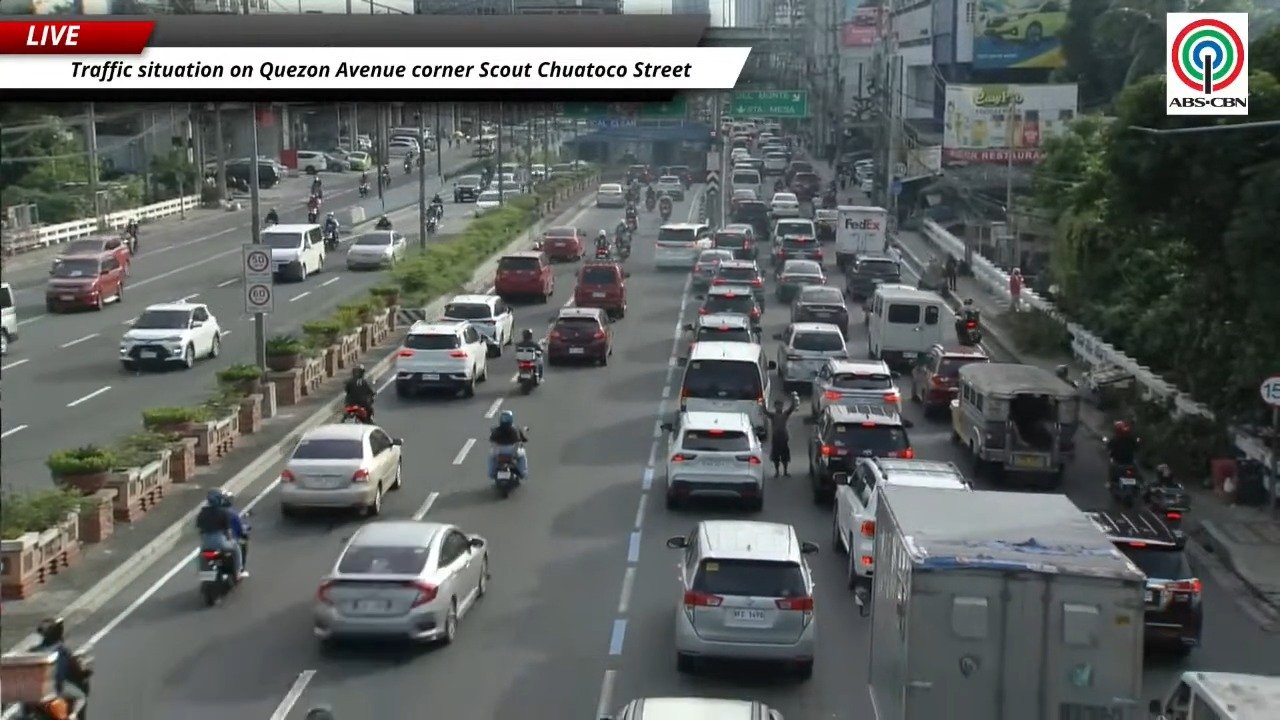car: (666, 520, 818, 679), (313, 521, 488, 643), (832, 457, 972, 587), (1088, 509, 1203, 655), (278, 423, 402, 516), (808, 404, 914, 503), (662, 412, 765, 511), (396, 321, 490, 397), (119, 302, 221, 370), (810, 358, 901, 419), (910, 345, 989, 415), (775, 323, 847, 392), (45, 253, 125, 312), (442, 295, 514, 356), (600, 697, 782, 719), (546, 306, 611, 365), (261, 223, 326, 281), (983, 0, 1067, 44), (574, 261, 629, 318), (51, 235, 131, 274), (494, 251, 554, 302), (791, 286, 849, 338), (684, 314, 759, 352), (696, 285, 762, 327), (654, 222, 712, 269), (846, 253, 900, 301), (711, 259, 765, 307), (346, 230, 407, 269), (772, 222, 824, 267), (776, 259, 825, 302), (690, 249, 732, 290), (731, 200, 771, 242), (540, 226, 587, 261), (713, 223, 757, 260), (0, 282, 19, 355), (788, 172, 821, 201), (772, 218, 816, 239), (453, 175, 484, 202), (813, 209, 838, 241), (654, 175, 684, 201), (296, 150, 328, 174), (473, 190, 502, 216), (762, 146, 788, 175), (770, 192, 800, 217), (596, 183, 626, 208), (784, 160, 813, 184), (488, 172, 520, 193), (664, 165, 693, 187), (734, 156, 762, 177), (388, 138, 420, 156), (730, 188, 758, 207), (345, 151, 371, 171), (624, 164, 650, 183), (325, 151, 349, 171), (549, 163, 576, 179), (529, 163, 547, 180), (731, 147, 749, 163), (859, 177, 874, 194)
motorcycle: (197, 549, 240, 606), (1144, 480, 1190, 522), (492, 444, 522, 498), (1108, 462, 1141, 507), (16, 697, 81, 719), (516, 349, 541, 394), (955, 318, 982, 346), (341, 404, 369, 423), (122, 225, 138, 254), (324, 228, 339, 250), (617, 239, 630, 260), (428, 203, 443, 220), (425, 216, 437, 236), (594, 246, 610, 260), (379, 169, 391, 187), (625, 216, 637, 232), (660, 206, 671, 223), (310, 184, 322, 199), (358, 182, 369, 198), (645, 197, 656, 211), (307, 210, 318, 223), (263, 217, 277, 227), (403, 159, 412, 174)
truck: (855, 484, 1145, 719), (1148, 671, 1279, 719), (835, 205, 887, 270)
